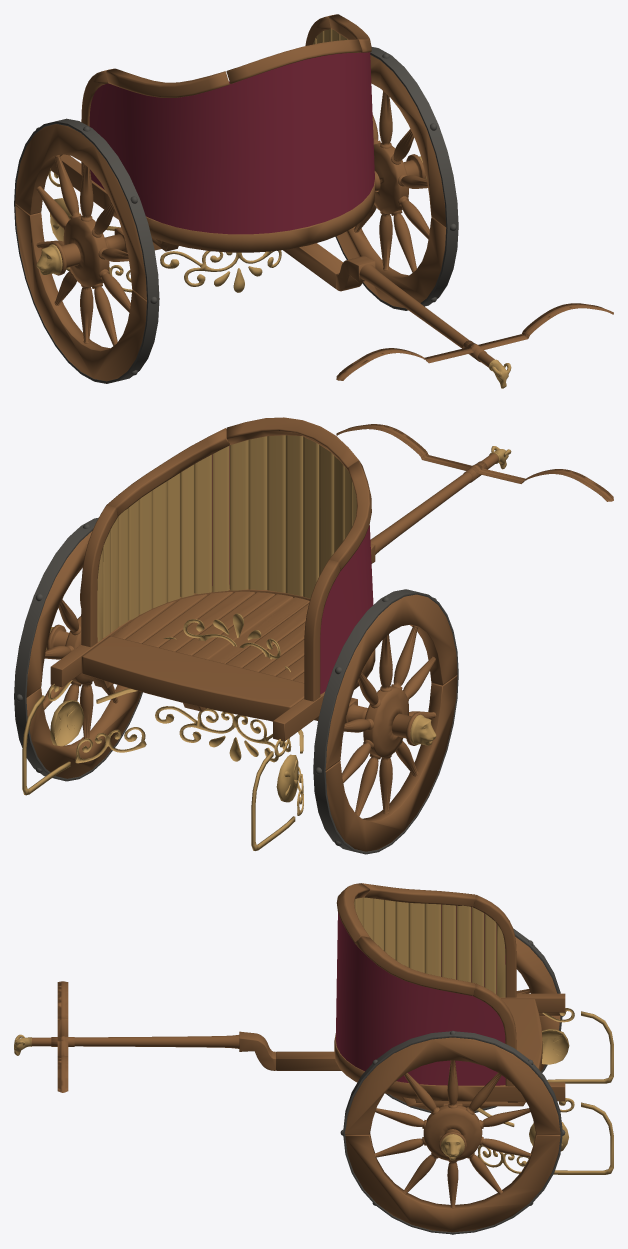
The model's file is chariot.glb.
3 renders of one model, top to bottom at view 1: azimuth 30°, elevation 25°; view 2: azimuth 150°, elevation 25°; view 3: azimuth 270°, elevation 25°, orthographic. The views are drawn at different scales.
Parts seen in each view (by area): view 1: Body_TeamLeather, WheelR_Wood, Body_Wood, WheelL_Wood, WheelR_Iron, WheelL_Iron, Body_Bronze; view 2: Body_Bronze, Body_Wood, WheelR_Wood, WheelL_Wood, WheelR_Iron, Body_TeamLeather, WheelL_Iron; view 3: WheelL_Wood, Body_Wood, Body_Bronze, Body_TeamLeather, WheelL_Iron, WheelR_Wood, WheelR_Iron.
Boxes of the visible parts, x1,y1,x2,y2 form: Body_TeamLeather: (89, 52, 374, 234); WheelR_Wood: (15, 124, 146, 381); Body_Wood: (48, 14, 613, 380); WheelL_Wood: (336, 55, 446, 308); WheelR_Iron: (14, 118, 159, 383); WheelL_Iron: (335, 47, 458, 310); Body_Bronze: (36, 29, 511, 388); Body_Bronze: (22, 435, 511, 850); Body_Wood: (46, 417, 613, 745); WheelR_Wood: (325, 594, 457, 851); WheelL_Wood: (26, 531, 141, 778); WheelR_Iron: (313, 589, 458, 854); Body_TeamLeather: (212, 446, 373, 694); WheelL_Iron: (14, 517, 142, 781); WheelL_Wood: (344, 1037, 560, 1232); Body_Wood: (31, 883, 565, 1156); Body_Bronze: (14, 897, 613, 1174); Body_TeamLeather: (335, 904, 505, 1085); WheelL_Iron: (340, 1030, 565, 1234); WheelR_Wood: (391, 937, 560, 1110); WheelR_Iron: (385, 928, 563, 1112).
Size of the model in its own units: 1.88 by 1.53 by 2.99.
